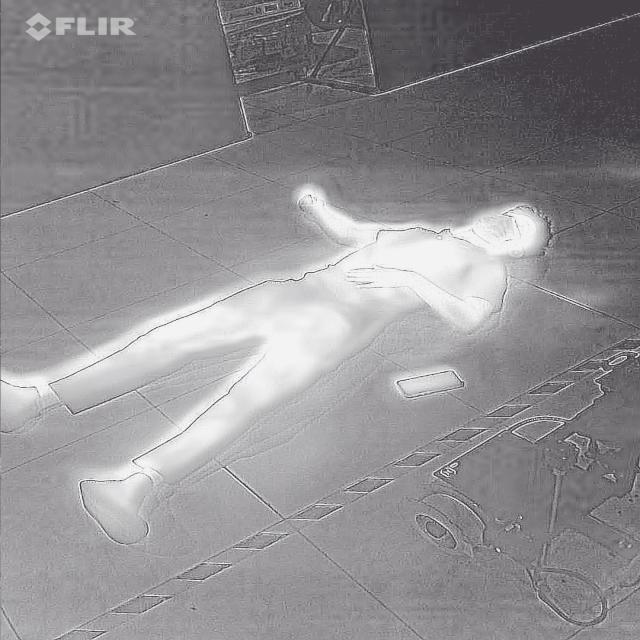Victim: (1, 177, 562, 548)
